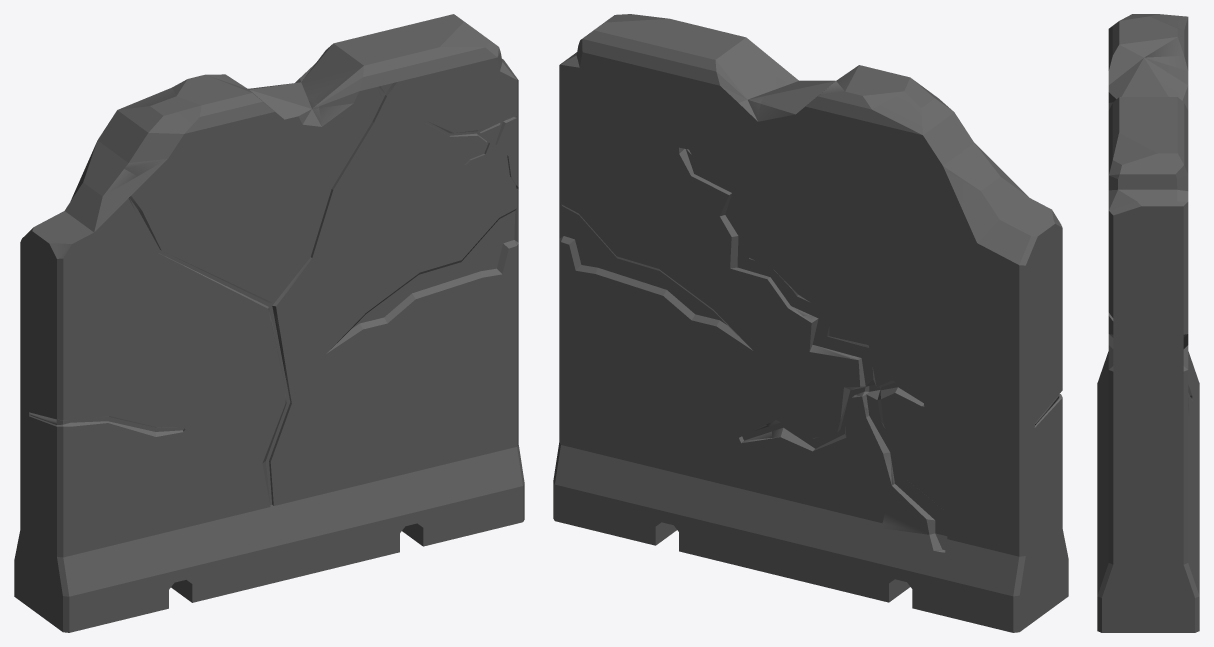
Rendered from barricade1_tall_cracked1_segmented.fbx.
The picture shows the model from 3 angles, left to right: view 1: azimuth 30°, elevation 25°; view 2: azimuth 150°, elevation 25°; view 3: azimuth 270°, elevation 25°; orthographic projection. The views are drawn at different scales.
Visible parts, largest first — view 1: Cube.003, Cube.005, Cube.001, Cube, Cube.010, Cube.004, Cube.008, Cube.002, Cube.011, Cube.009, Cube.006, Cube.007; view 2: Cube.003, Cube.001, Cube.005, Cube, Cube.004, Cube.010, Cube.008, Cube.002, Cube.011, Cube.009, Cube.006, Cube.007; view 3: Cube.003, Cube.005, Cube.006, Cube.002, Cube.008, Cube.007, Cube, Cube.011.
Part boxes in pixels (bbox=[...]): Cube.003: bbox=[289, 14, 518, 196]; Cube.005: bbox=[329, 155, 518, 374]; Cube.001: bbox=[20, 147, 199, 369]; Cube: bbox=[14, 453, 220, 632]; Cube.010: bbox=[20, 328, 249, 498]; Cube.004: bbox=[170, 179, 416, 327]; Cube.008: bbox=[242, 412, 440, 590]; Cube.002: bbox=[94, 74, 321, 203]; Cube.011: bbox=[181, 372, 322, 595]; Cube.009: bbox=[170, 316, 435, 424]; Cube.006: bbox=[435, 368, 524, 542]; Cube.007: bbox=[391, 347, 518, 424]; Cube.003: bbox=[559, 14, 792, 192]; Cube.001: bbox=[881, 146, 1062, 367]; Cube.005: bbox=[559, 151, 750, 372]; Cube: bbox=[860, 451, 1068, 632]; Cube.004: bbox=[662, 175, 911, 324]; Cube.010: bbox=[831, 324, 1062, 496]; Cube.008: bbox=[638, 410, 838, 590]; Cube.002: bbox=[758, 65, 978, 199]; Cube.011: bbox=[757, 369, 899, 595]; Cube.009: bbox=[643, 313, 910, 422]; Cube.006: bbox=[553, 365, 643, 541]; Cube.007: bbox=[559, 344, 687, 422]; Cube.003: bbox=[1108, 97, 1188, 286]; Cube.005: bbox=[1108, 286, 1188, 470]; Cube.006: bbox=[1097, 491, 1199, 632]; Cube.002: bbox=[1108, 14, 1188, 110]; Cube.008: bbox=[1097, 451, 1199, 556]; Cube.007: bbox=[1108, 469, 1188, 490]; Cube: bbox=[1097, 351, 1199, 449]; Cube.011: bbox=[1097, 415, 1199, 473].
Size of the model in its own units: 400 by 401 by 80.
